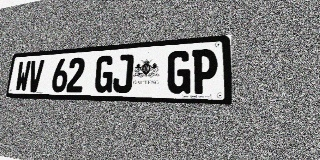2: (66, 57, 85, 92)
6: (51, 58, 70, 92)
G: (166, 50, 191, 94), (94, 55, 115, 93)
J: (112, 54, 134, 93)
P: (191, 48, 218, 94)
V: (27, 60, 44, 92)
W: (15, 61, 31, 92)
